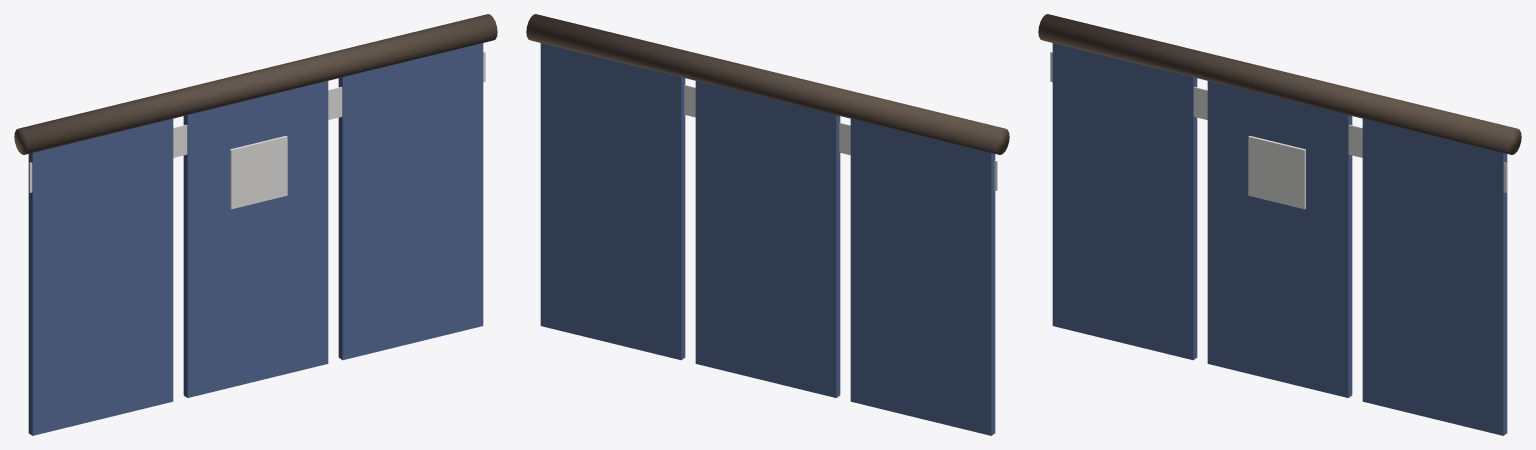
The model's file is prop_noren_ai.glb.
The picture shows the model from 3 angles, left to right: view 1: azimuth 30°, elevation 25°; view 2: azimuth 150°, elevation 25°; view 3: azimuth 330°, elevation 25°; orthographic projection.
Visible parts, largest first — view 1: noren_ai; view 2: noren_ai; view 3: noren_ai.
Part boxes in pixels (x1,y1,x2,y2): noren_ai: [14, 14, 497, 435]; noren_ai: [526, 14, 1009, 435]; noren_ai: [1038, 14, 1521, 435].
Bounding box in the file's own units: 2 × 1.25 × 0.1.
